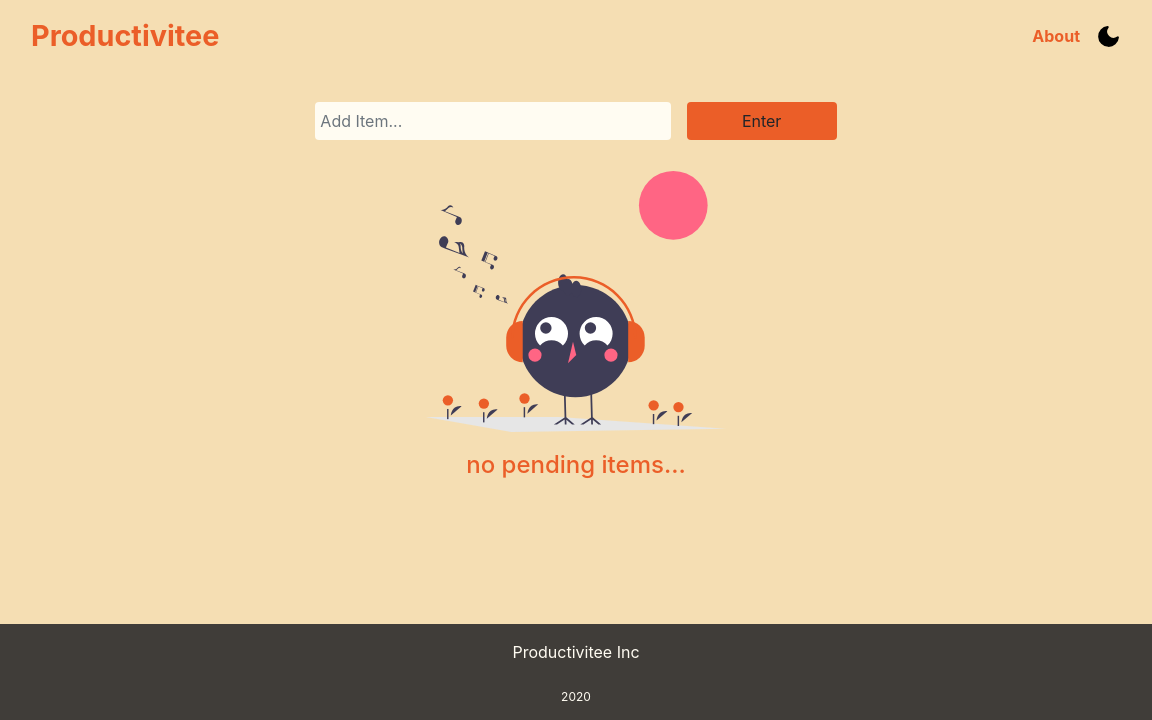
it: testing the todo application › should render items when todos has items in it
Type "this is the new todo" into the field with test id "todo-input" at [493, 121], box [315, 102, 671, 140]
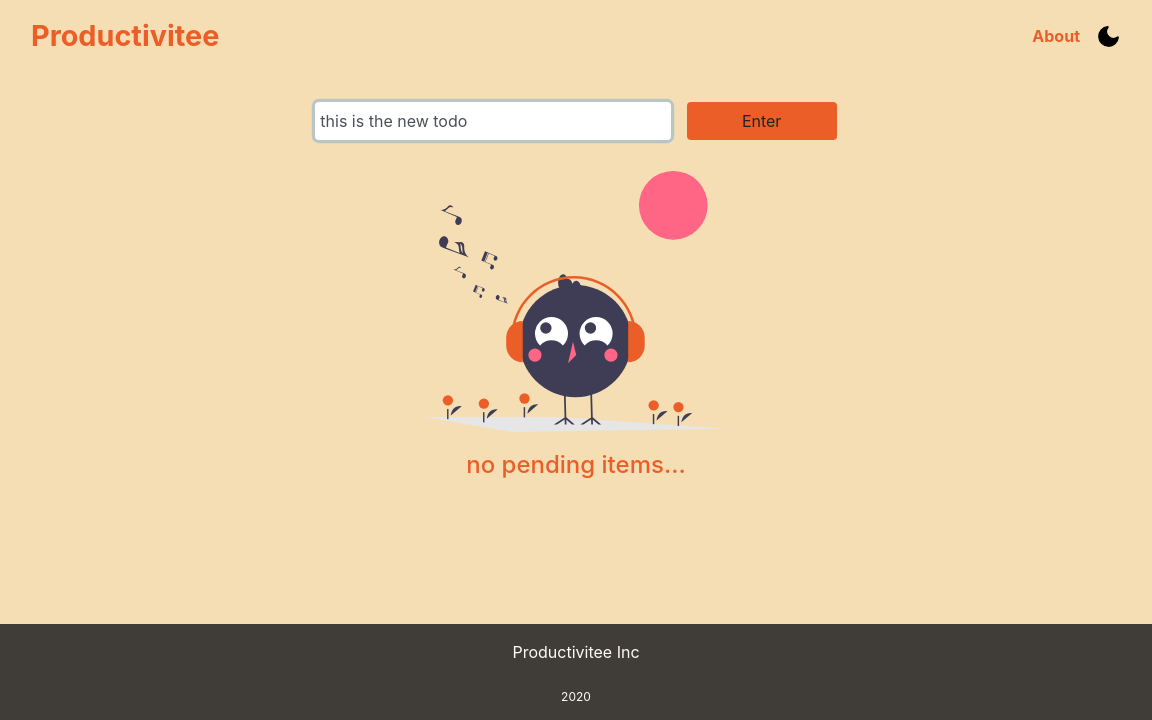
Submit the form from the button "Enter", box [687, 102, 837, 140]
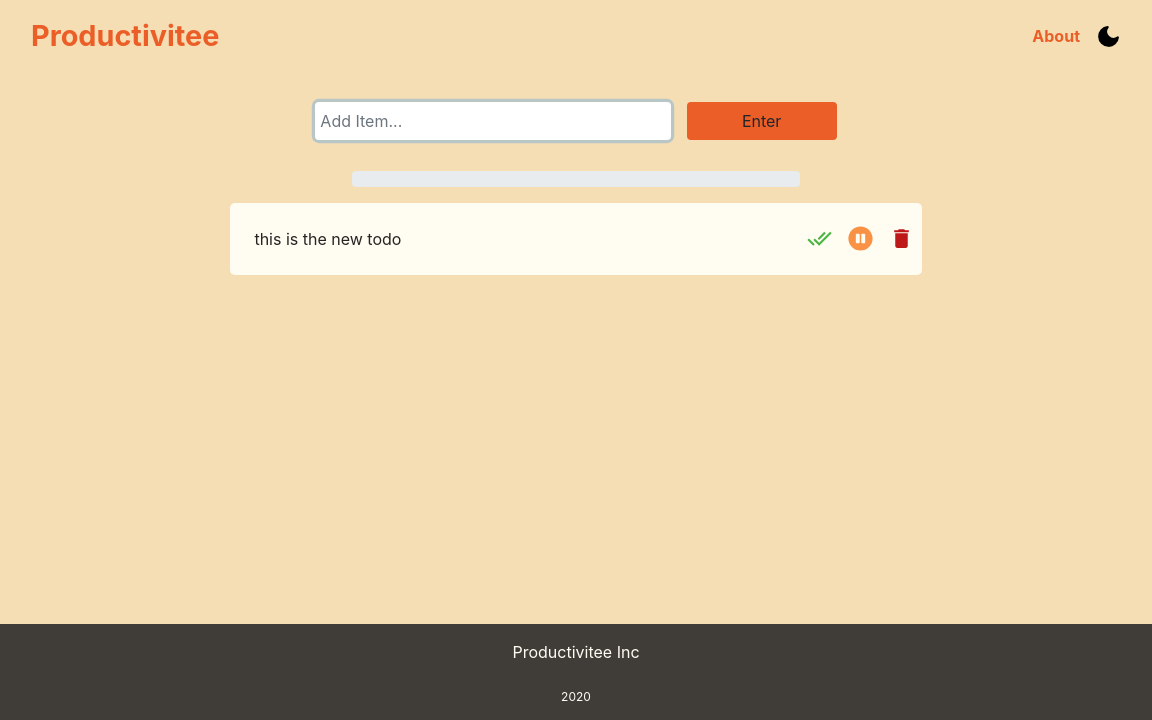
Expected: the heading with test id "todos-empty-container" is gone
